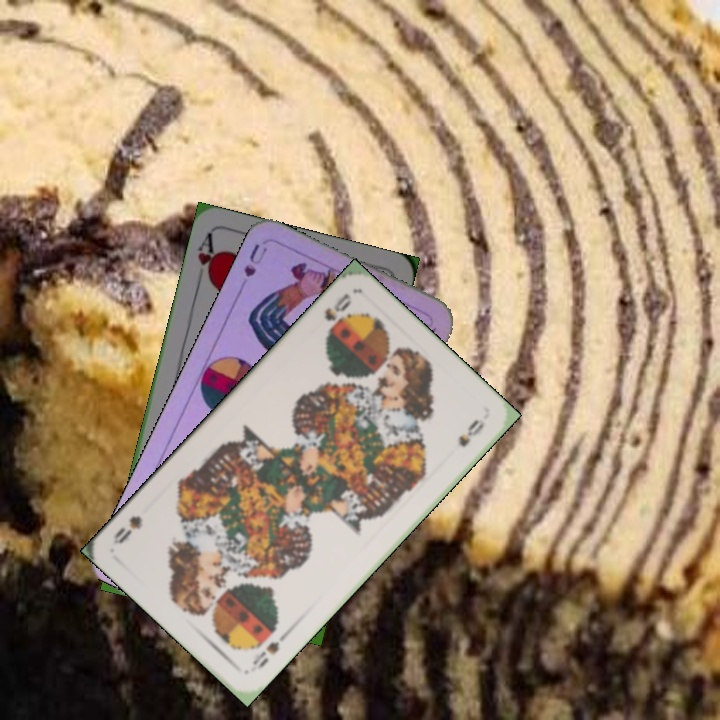HA: (193, 230, 220, 289)
SO: (246, 628, 292, 675), (320, 289, 355, 335)
SU: (234, 239, 270, 296)
